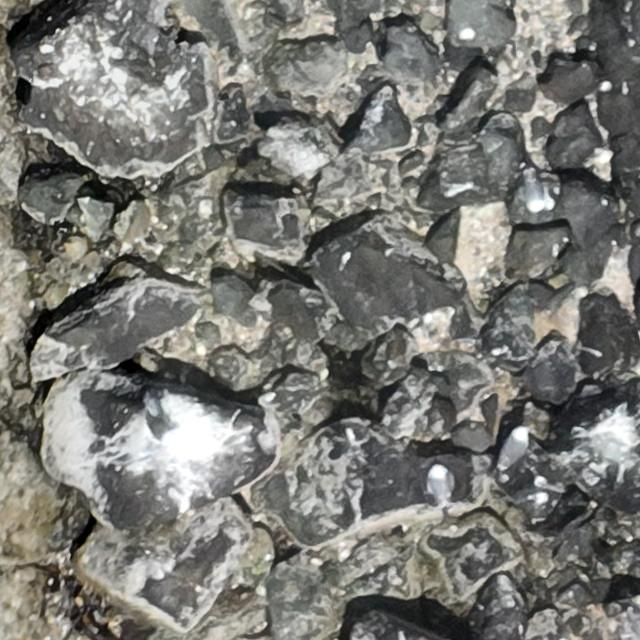umineko: (144, 411, 184, 449), (502, 429, 528, 469), (528, 166, 548, 211), (428, 466, 446, 502)
